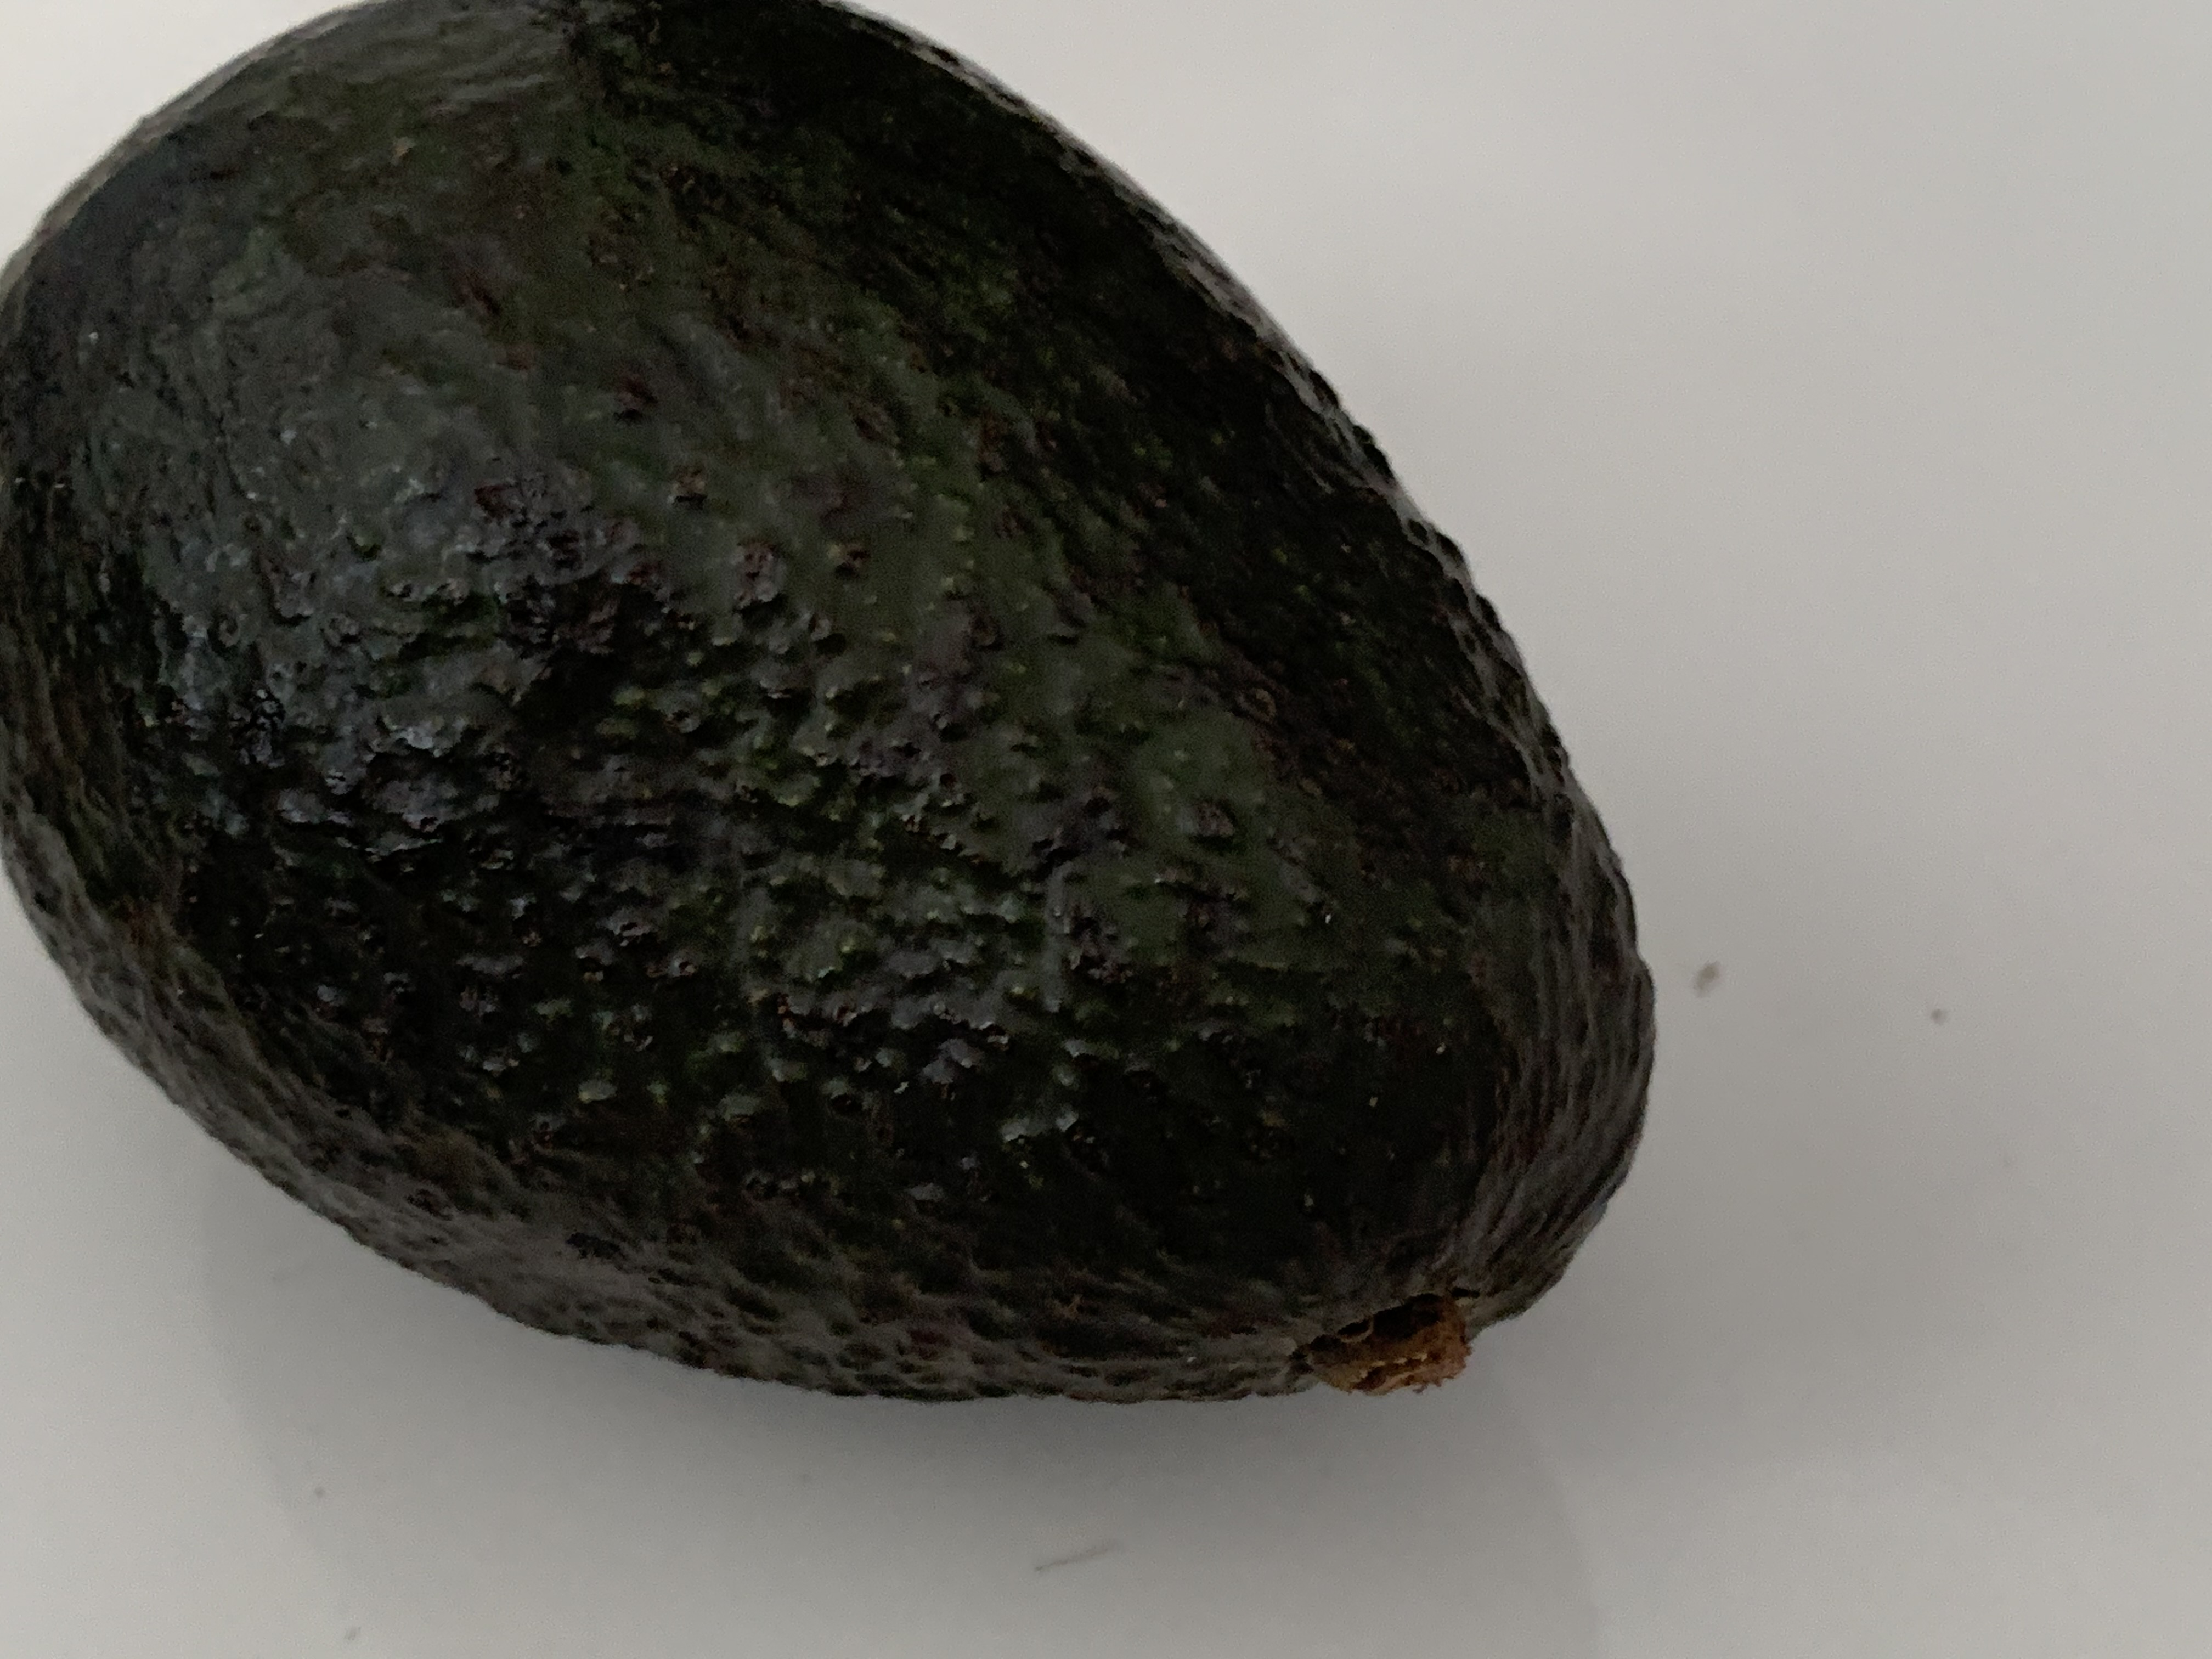avocado: (23, 16, 1658, 1396)
